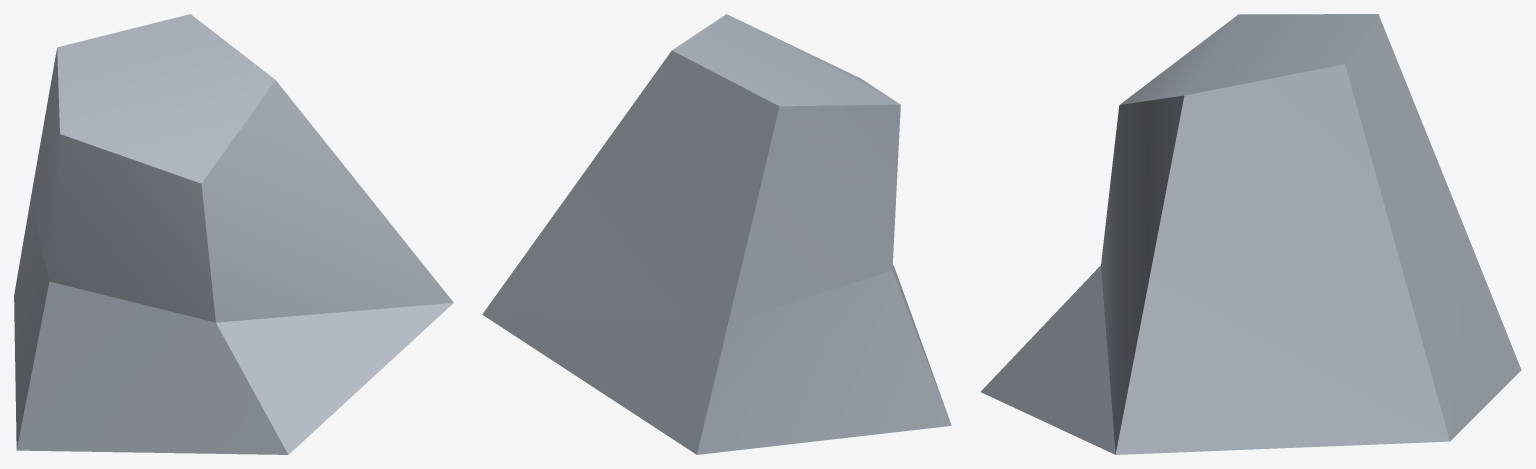
File: Stone_3.fbx
The picture shows the model from 3 angles, left to right: view 1: azimuth 30°, elevation 25°; view 2: azimuth 150°, elevation 25°; view 3: azimuth 270°, elevation 25°; orthographic projection. The views are drawn at different scales.
Visible parts, largest first — view 1: Stone29; view 2: Stone29; view 3: Stone29.
Part boxes in pixels (x1,y1,x2,y2): Stone29: [14, 14, 453, 454]; Stone29: [482, 14, 951, 454]; Stone29: [981, 14, 1521, 454].
Bounding box in the file's own units: 226 × 193 × 236.
